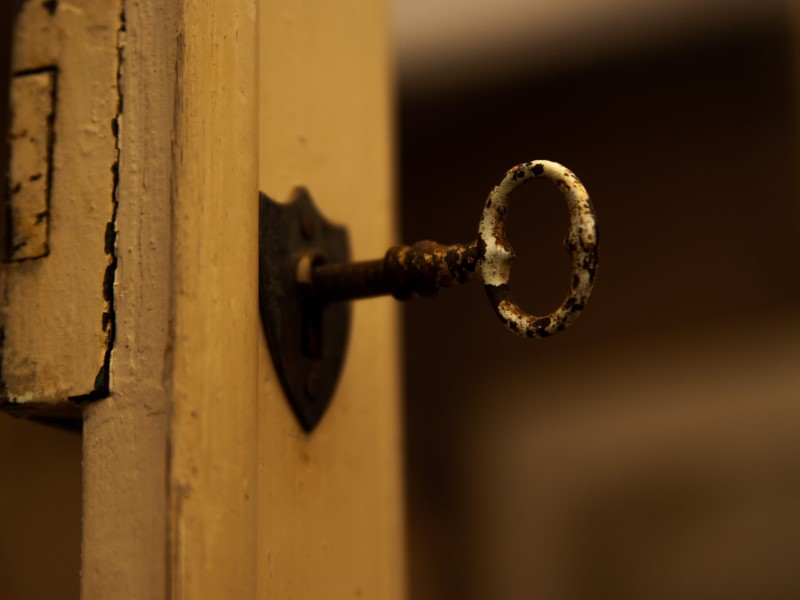key: (332, 150, 594, 343)
